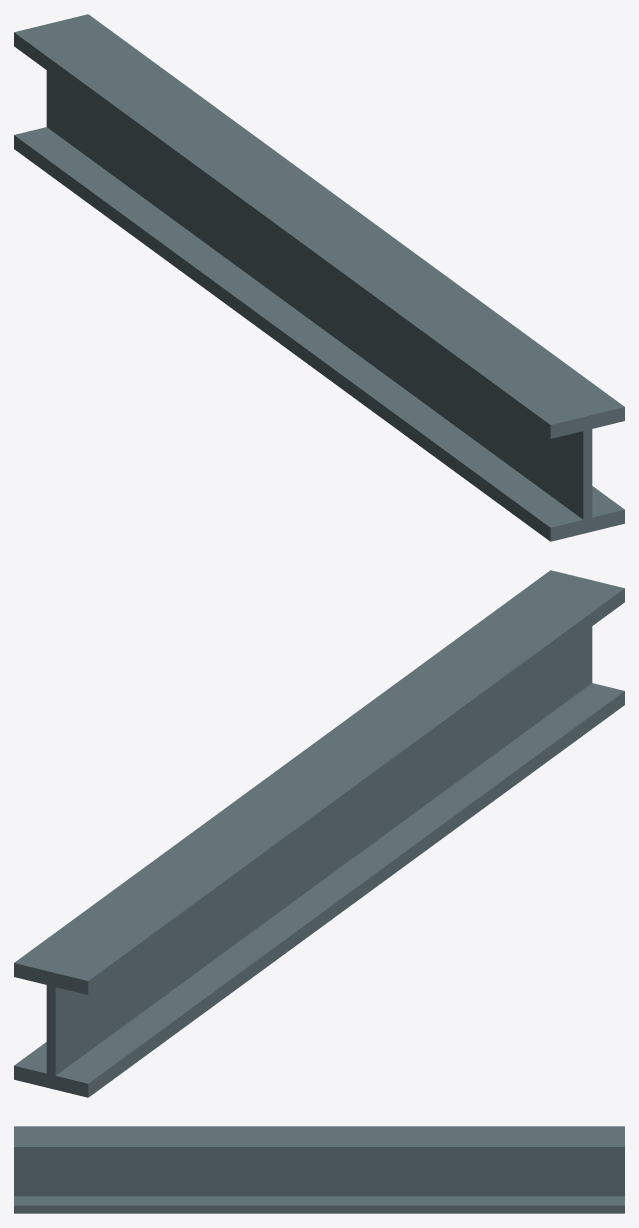
File: i-beam.glb
3 renders of one model, top to bottom at view 1: azimuth 30°, elevation 25°; view 2: azimuth 150°, elevation 25°; view 3: azimuth 270°, elevation 25°, orthographic. The views are drawn at different scales.
Parts seen in each view (by area): view 1: ExtrudedISection; view 2: ExtrudedISection; view 3: ExtrudedISection.
Boxes of the visible parts, <box> form: ExtrudedISection: <box>14,14,624,541</box>; ExtrudedISection: <box>14,570,624,1097</box>; ExtrudedISection: <box>14,1126,624,1213</box>.
Bounding box in the file's own units: 0.2 × 0.3 × 2.5.
